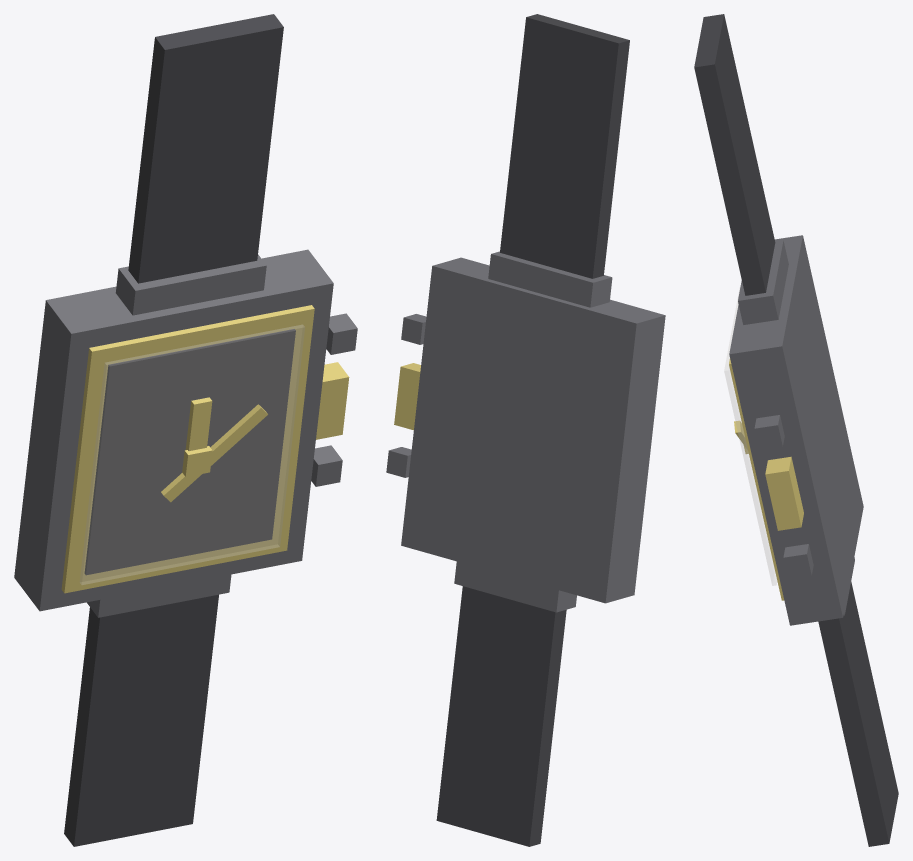
Rendered from watch.glb.
3 views of the same model, side by side, from view 1: azimuth 30°, elevation 25°; view 2: azimuth 150°, elevation 25°; view 3: azimuth 270°, elevation 25° (orthographic). The views are drawn at different scales.
Size of the model in its own units: 2 by 5.72 by 1.36.
